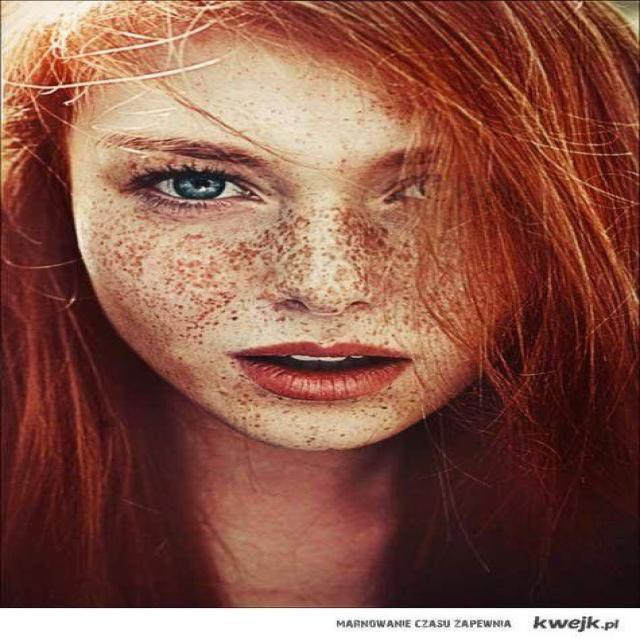freckle: (78, 200, 431, 333), (168, 337, 329, 454)
